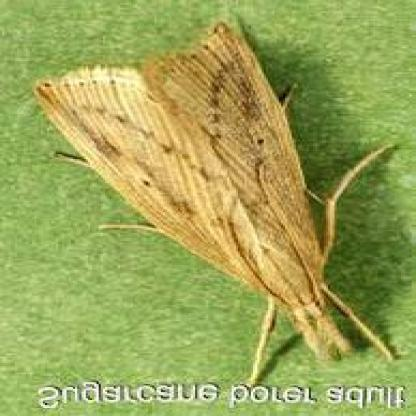stem-borer: (28, 16, 397, 378)
